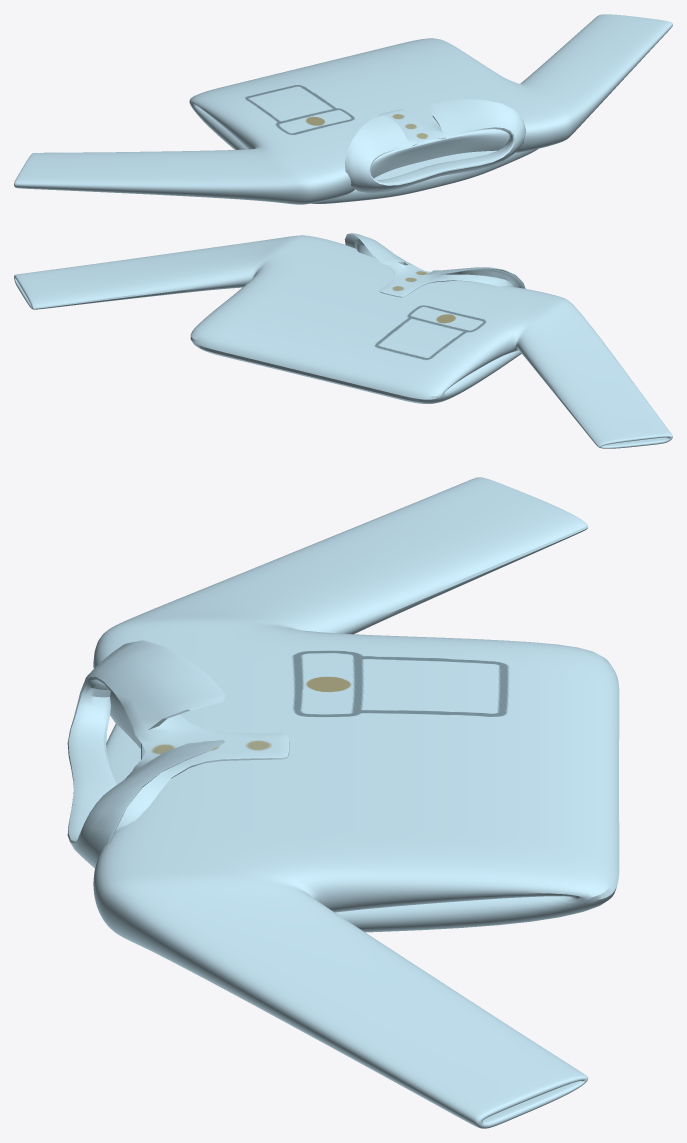
Rendered from CAMISA MANGA LARGA.fbx.
The picture shows the model from 3 angles, top to bottom: view 1: azimuth 30°, elevation 25°; view 2: azimuth 150°, elevation 25°; view 3: azimuth 270°, elevation 25°; orthographic projection. The views are drawn at different scales.
Visible parts, largest first — view 1: Cube.001; view 2: Cube.001; view 3: Cube.001.
Part boxes in pixels (x1,y1,x2,y2): Cube.001: [14, 14, 672, 204]; Cube.001: [14, 233, 672, 448]; Cube.001: [67, 477, 619, 1128].
Size of the model in its own units: 515 by 46.39 by 187.
Materials: 1 (1 with a texture image).
